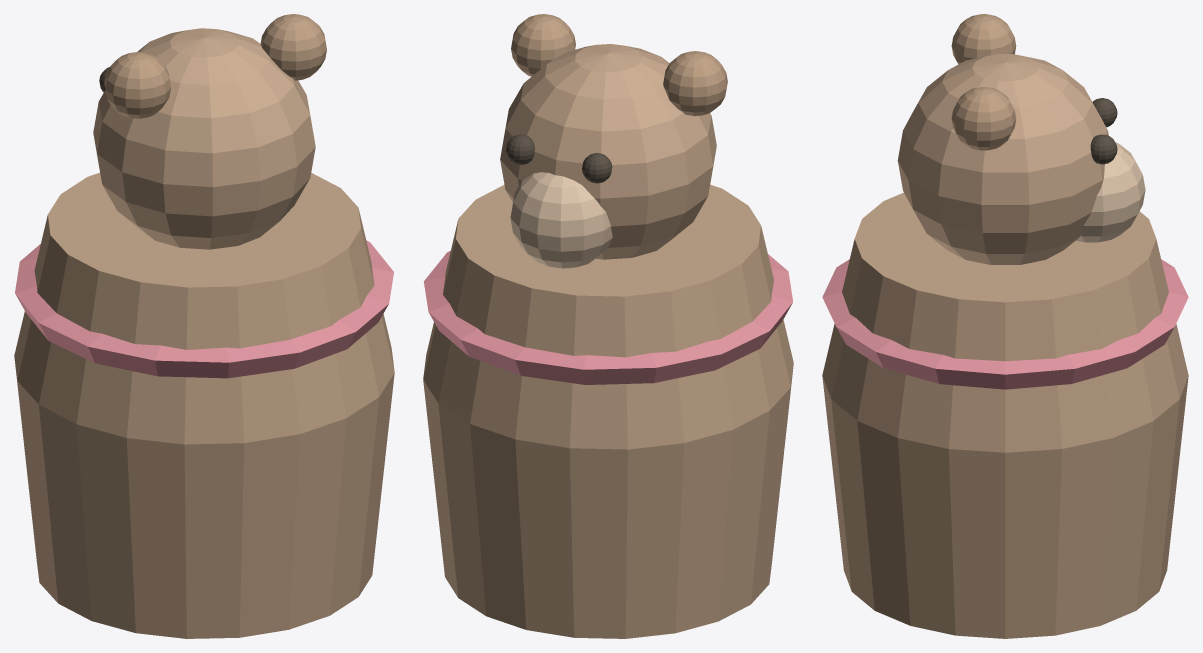
Rendered from char_grandma_bear.glb.
3 views of the same model, side by side, from view 1: azimuth 30°, elevation 25°; view 2: azimuth 150°, elevation 25°; view 3: azimuth 270°, elevation 25° (orthographic). The views are drawn at different scales.
Visible parts, largest first — view 1: Body, Head, Shawl, EarL, EarR; view 2: Body, Head, Shawl, SnoutBase, EarL, EarR, EyeL, EyeR; view 3: Body, Head, Shawl, SnoutBase, EarR, EarL, EyeR.
Part boxes in pixels (<box>): Body: <box>14,172,394,638</box>; Head: <box>93,28,315,249</box>; Shawl: <box>15,240,393,378</box>; EarL: <box>104,52,170,118</box>; EarR: <box>260,14,326,80</box>; Body: <box>423,184,793,638</box>; Head: <box>500,44,716,259</box>; Shawl: <box>423,251,792,384</box>; SnoutBase: <box>510,172,612,268</box>; EarL: <box>663,51,727,116</box>; EarR: <box>511,14,575,76</box>; EyeL: <box>582,153,612,183</box>; EyeR: <box>506,134,534,164</box>; Body: <box>822,192,1188,638</box>; Head: <box>897,54,1108,264</box>; Shawl: <box>822,259,1188,389</box>; SnoutBase: <box>1076,142,1145,242</box>; EarR: <box>951,87,1016,150</box>; EarL: <box>951,14,1016,64</box>; EyeR: <box>1090,134,1117,164</box>.
Size of the model in its own units: 0.34 by 0.53 by 0.34.
